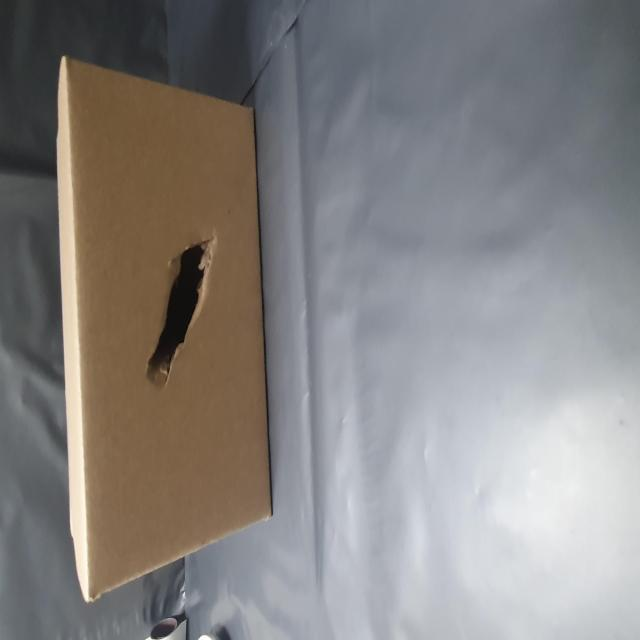damaged: (132, 254, 242, 388)
